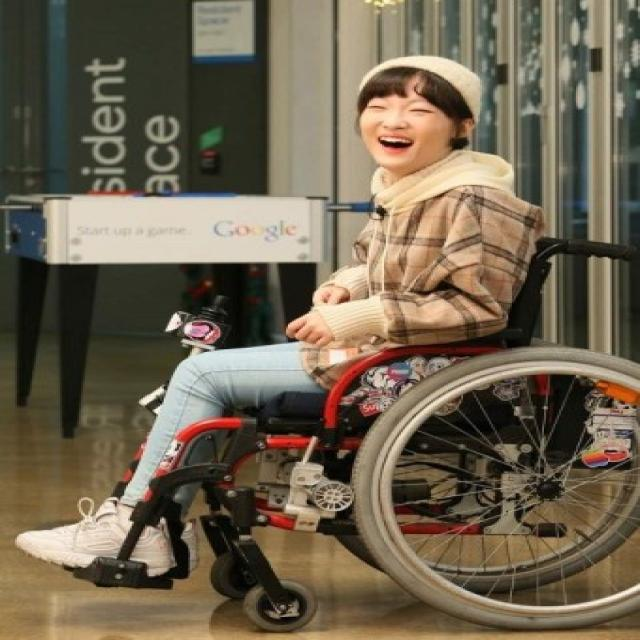wheelchair: (17, 55, 640, 630)
